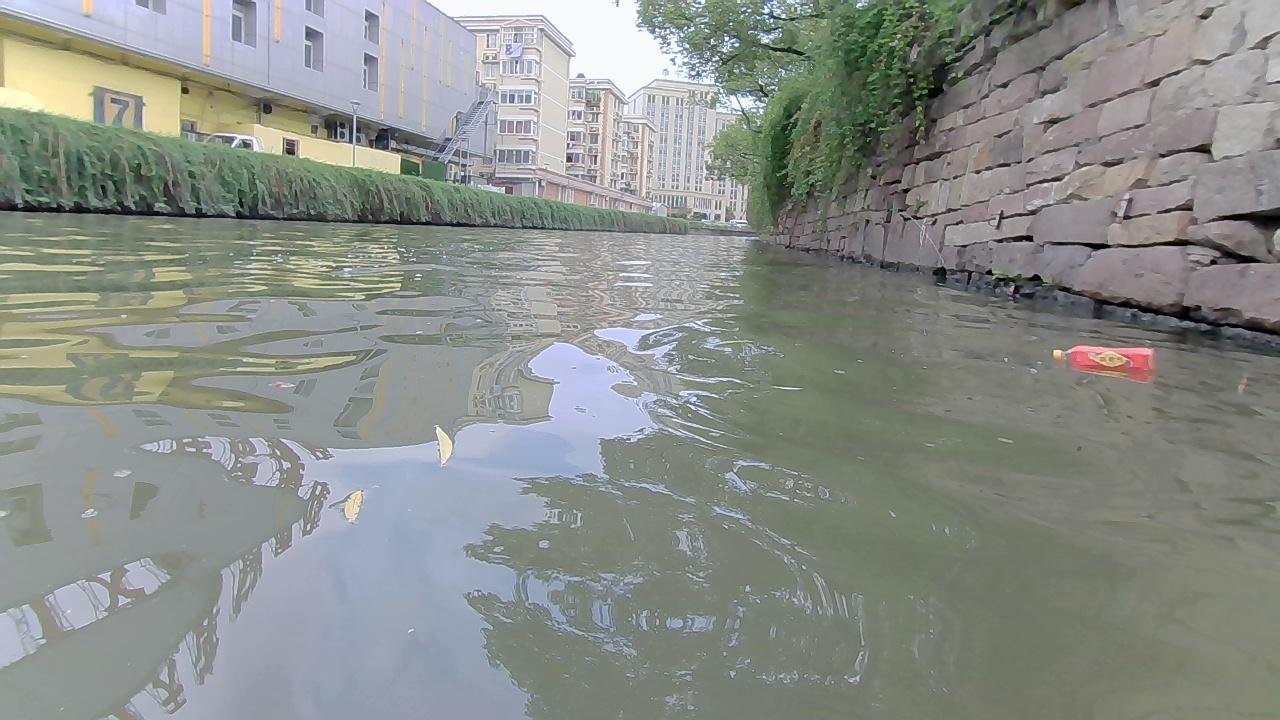bottle: (1052, 343, 1156, 368)
